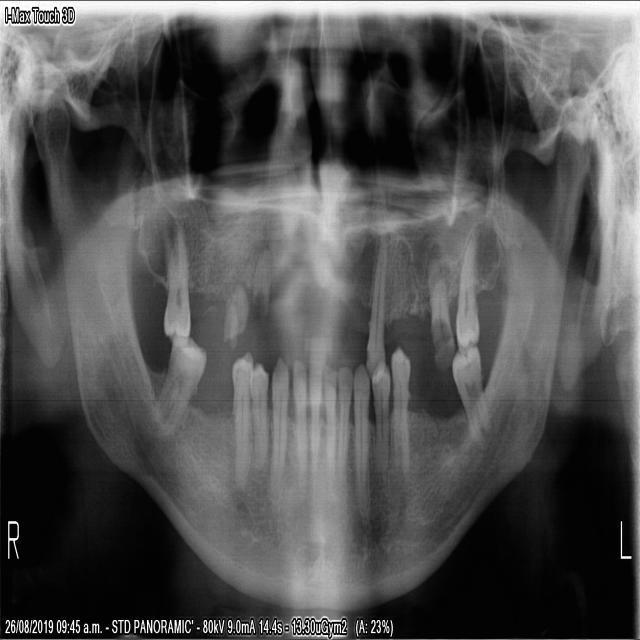LCD: (350, 359, 370, 512)
LCU: (363, 223, 388, 387)
LID: (335, 361, 351, 498), (322, 360, 336, 498)
LMD: (448, 342, 491, 455)
LMU: (452, 224, 480, 352)
LPMD: (388, 343, 410, 486)
LPMU: (369, 358, 389, 485)
RCD: (269, 351, 288, 496)
RID: (289, 355, 306, 516)
RMD: (150, 332, 206, 440)
RMU: (157, 222, 190, 349)
RPMD: (229, 348, 253, 489), (246, 356, 268, 476)
